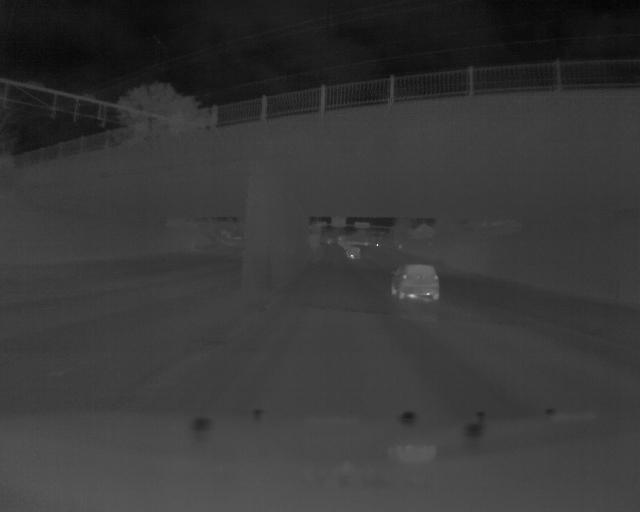car: (394, 263, 440, 300), (348, 246, 361, 259)
